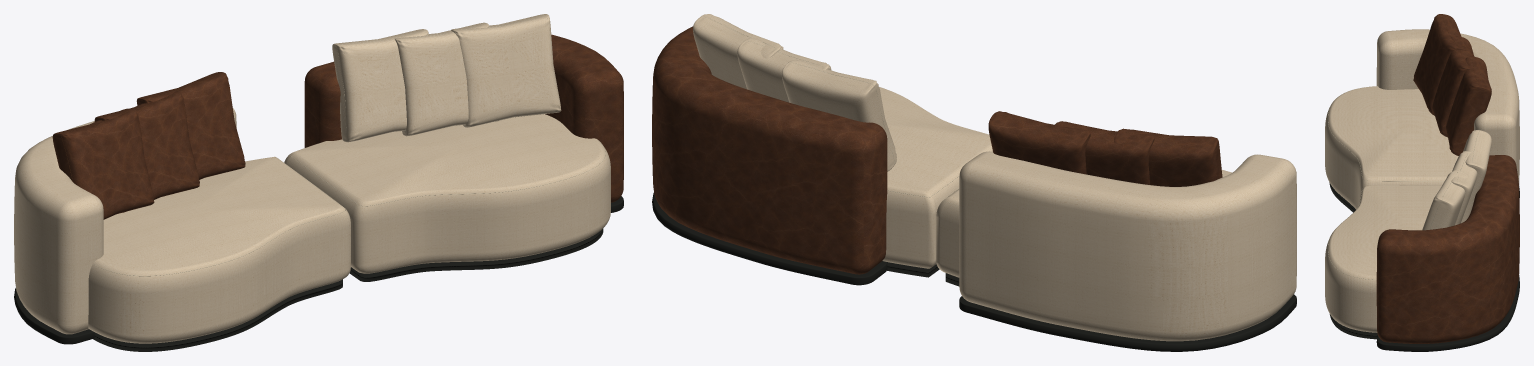
Rendered from straight.glb.
3 views of the same model, side by side, from view 1: azimuth 30°, elevation 25°; view 2: azimuth 150°, elevation 25°; view 3: azimuth 270°, elevation 25° (orthographic). The views are drawn at different scales.
Visible parts, largest first — view 1: fabric (×2), pillows, accent, trim (×2); view 2: fabric, trim (×2), accent, pillows; view 3: fabric (×2), trim (×2), accent, pillows.
Part boxes in pixels (x1,y1,x2,y2): fabric (×2): [14, 108, 610, 343]; pillows: [332, 14, 561, 142]; accent: [52, 72, 245, 219]; trim (×2): [14, 34, 623, 351]; fabric: [879, 87, 1296, 341]; trim (×2): [652, 26, 1296, 351]; accent: [988, 111, 1222, 186]; pillows: [693, 14, 896, 171]; fabric (×2): [1325, 29, 1519, 332]; trim (×2): [1329, 155, 1519, 351]; accent: [1413, 14, 1491, 155]; pillows: [1422, 130, 1491, 230].
Bounding box in the file's own units: 3.2 × 0.9467 × 1.2.
5 materials, 2 textured.
